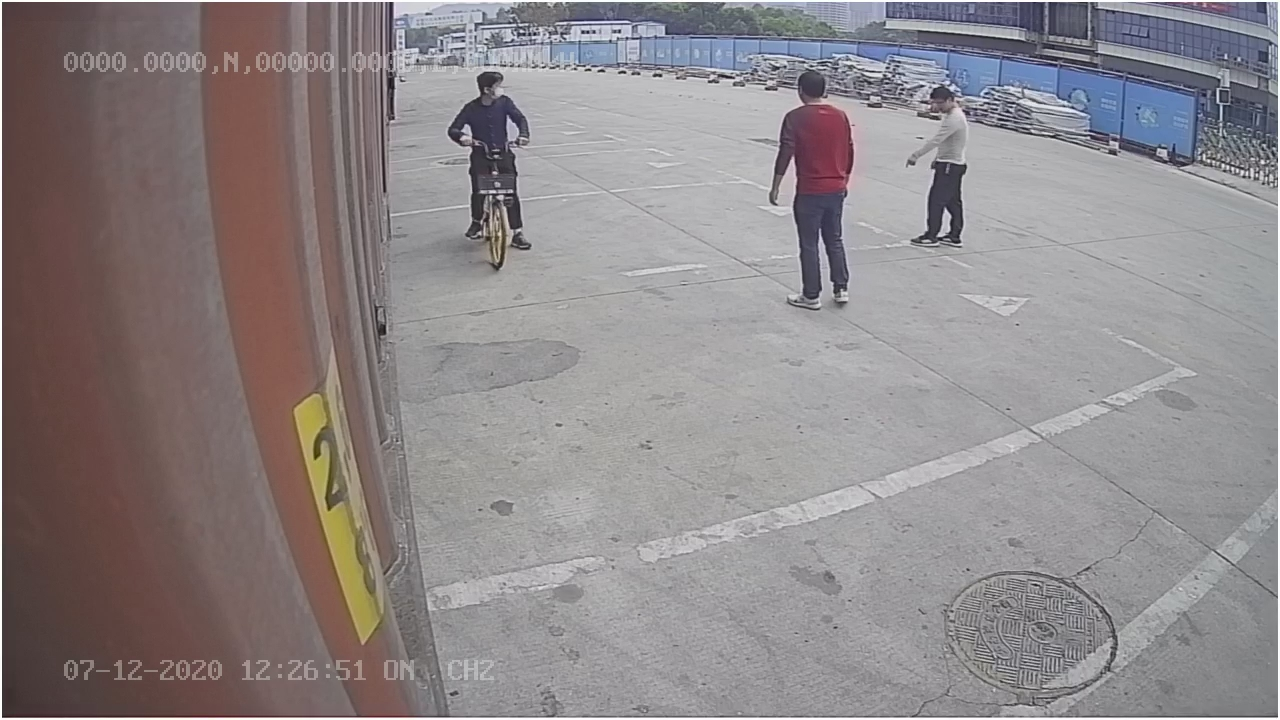person: (761, 65, 857, 314)
